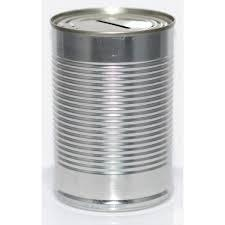Tin: (42, 5, 196, 225)
